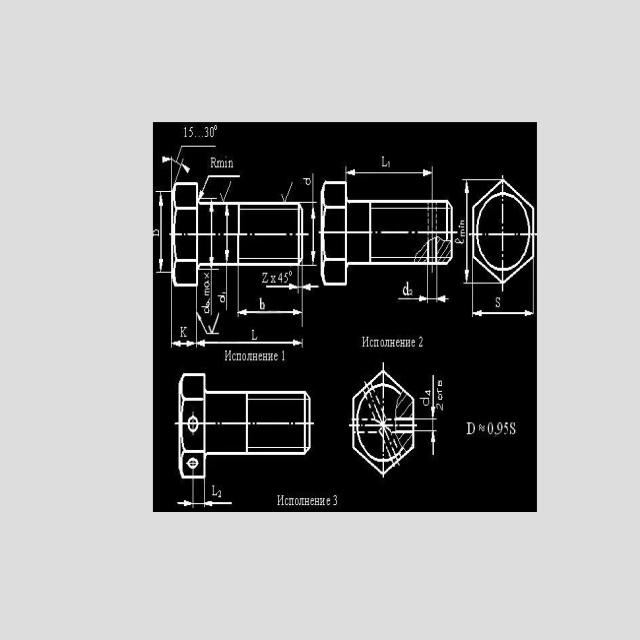marking_line: (197, 339, 302, 347), (463, 180, 469, 282), (348, 169, 431, 176), (239, 308, 301, 316), (158, 193, 164, 271), (223, 205, 231, 262), (473, 310, 533, 317), (208, 206, 215, 261), (310, 206, 315, 265), (430, 373, 435, 420), (172, 339, 195, 349), (397, 295, 428, 302), (205, 500, 234, 507), (265, 284, 297, 290), (430, 433, 437, 458), (303, 282, 320, 292), (176, 500, 192, 507), (438, 293, 450, 302)
numeric: (183, 125, 195, 140), (204, 127, 216, 138), (494, 294, 502, 310), (418, 335, 425, 349), (496, 421, 502, 437), (487, 422, 493, 436), (437, 403, 444, 414), (504, 421, 508, 438), (283, 272, 288, 283), (279, 272, 283, 284)
special_symbol: (170, 143, 216, 173), (159, 154, 197, 183), (194, 311, 223, 335), (277, 179, 294, 202), (219, 180, 233, 202)
